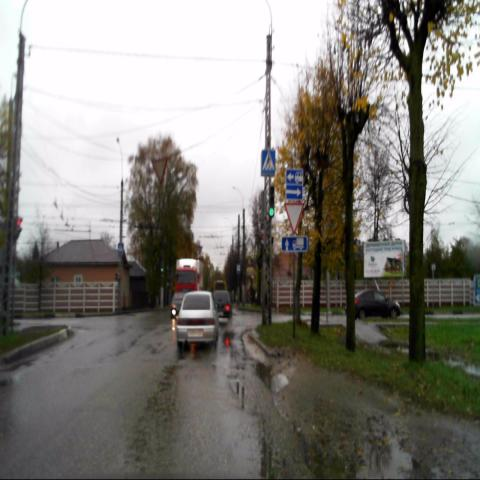5_7_1: (286, 185, 303, 200)
6_15_1: (282, 236, 307, 251)
6_15_3: (286, 169, 302, 184)
